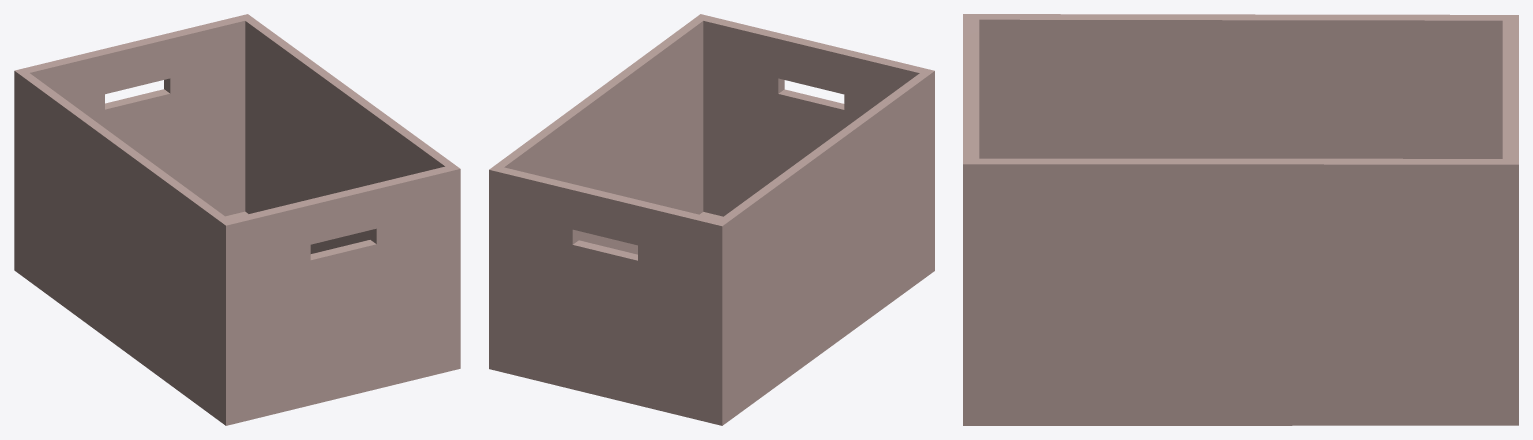
Rendered from warehouse_029.glb.
3 views of the same model, side by side, from view 1: azimuth 30°, elevation 25°; view 2: azimuth 150°, elevation 25°; view 3: azimuth 270°, elevation 25° (orthographic). The views are drawn at different scales.
Parts seen in each view (by area): view 1: warehouse_029; view 2: warehouse_029; view 3: warehouse_029.
Boxes of the visible parts, box(x1,y1,x2,y2) form: warehouse_029: box(14, 14, 460, 425); warehouse_029: box(489, 14, 934, 425); warehouse_029: box(963, 14, 1518, 425).
Bounding box in the file's own units: 0.419 × 0.3418 × 0.6566.
Materials: 1 (1 with a texture image).
